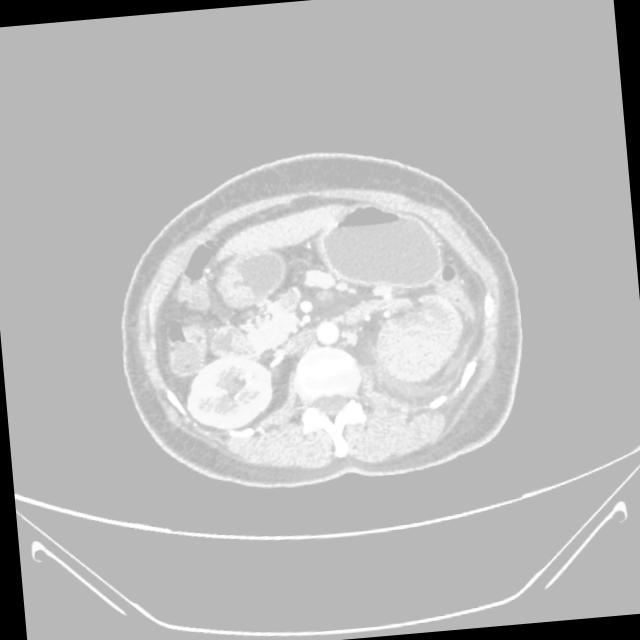TUMOR: (108, 187, 417, 364)
